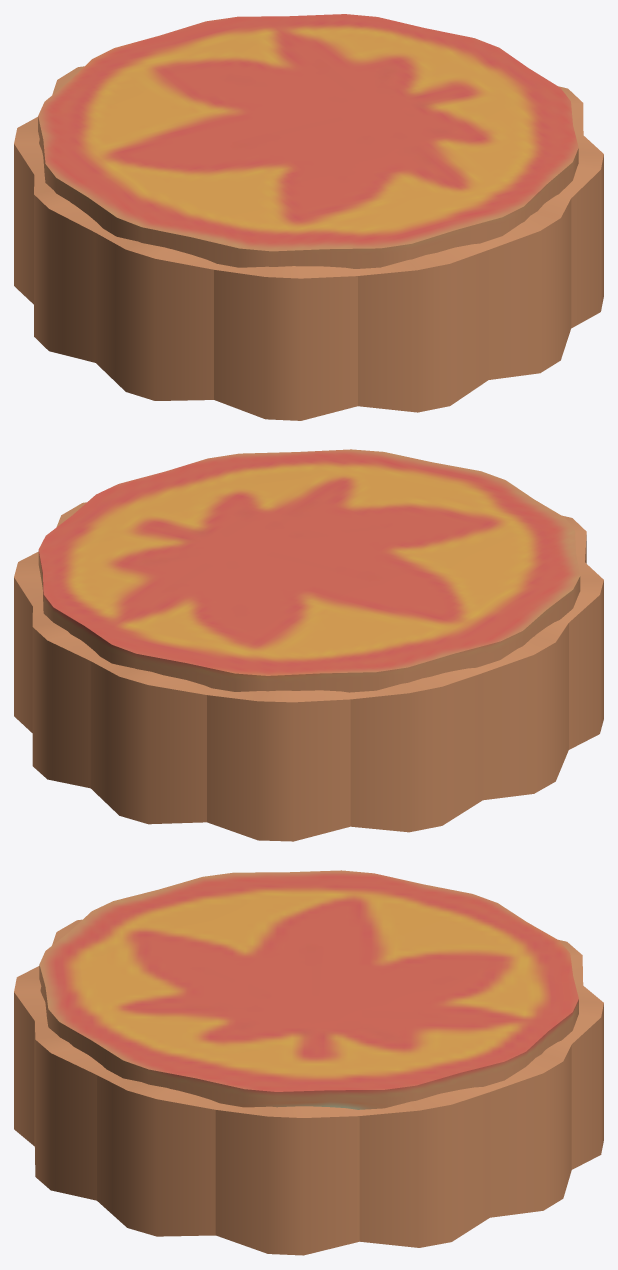
File: SM_Mooncake_01.fbx
3 views of the same model, one above another, from view 1: azimuth 30°, elevation 25°; view 2: azimuth 150°, elevation 25°; view 3: azimuth 270°, elevation 25° (orthographic). The views are drawn at different scales.
Visible parts, largest first — view 1: Cylinder.005, Cylinder.004; view 2: Cylinder.005, Cylinder.004; view 3: Cylinder.005, Cylinder.004.
Part boxes in pixels (x1,y1,x2,y2): Cylinder.005: [38, 14, 578, 268]; Cylinder.004: [14, 66, 603, 420]; Cylinder.005: [38, 449, 580, 692]; Cylinder.004: [14, 502, 603, 841]; Cylinder.005: [39, 870, 578, 1109]; Cylinder.004: [14, 919, 603, 1255].
Bounding box in the file's own units: 0.2404 × 0.2483 × 0.0725.
